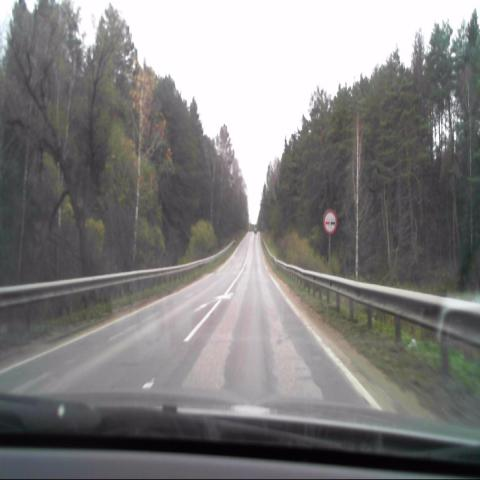3_20: (323, 209, 336, 234)
